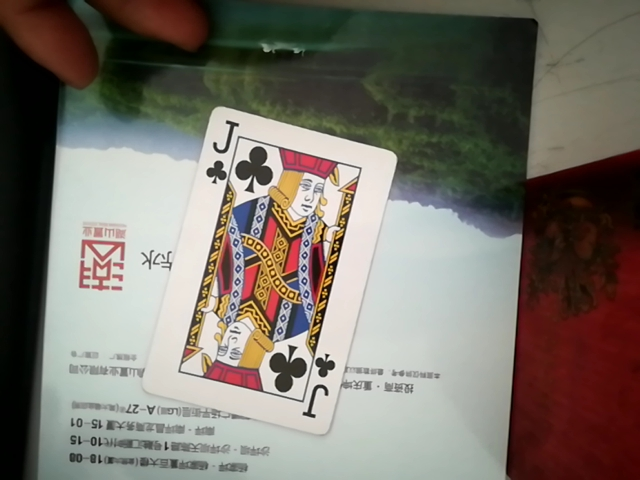mh j: (167, 100, 386, 441)
